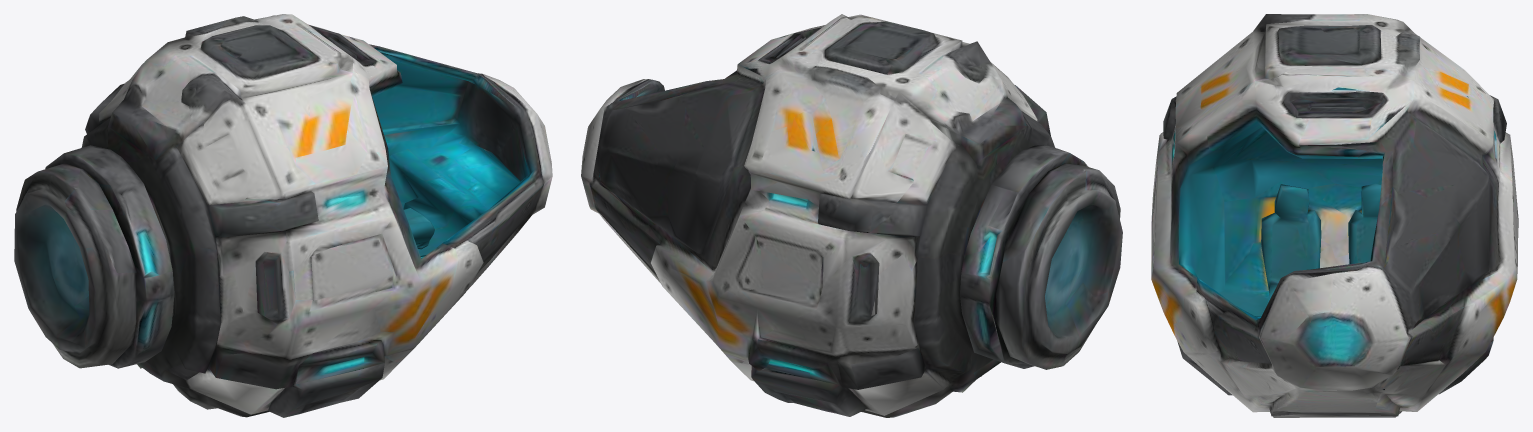
The picture shows the model from 3 angles, left to right: view 1: azimuth 30°, elevation 25°; view 2: azimuth 150°, elevation 25°; view 3: azimuth 270°, elevation 25°; orthographic projection.
Parts seen in each view (by area): view 1: tripo_node_0044b075-31d7-43d8-9bc5-5515eed03232; view 2: tripo_node_0044b075-31d7-43d8-9bc5-5515eed03232; view 3: tripo_node_0044b075-31d7-43d8-9bc5-5515eed03232.
Part boxes in pixels (box(x1,y1,x2,y2)): tripo_node_0044b075-31d7-43d8-9bc5-5515eed03232: box(14, 14, 552, 417); tripo_node_0044b075-31d7-43d8-9bc5-5515eed03232: box(581, 14, 1122, 417); tripo_node_0044b075-31d7-43d8-9bc5-5515eed03232: box(1151, 14, 1518, 417).
Bounding box in the file's own units: 0.9795 × 0.6732 × 0.6407.
1 material, 1 textured.
